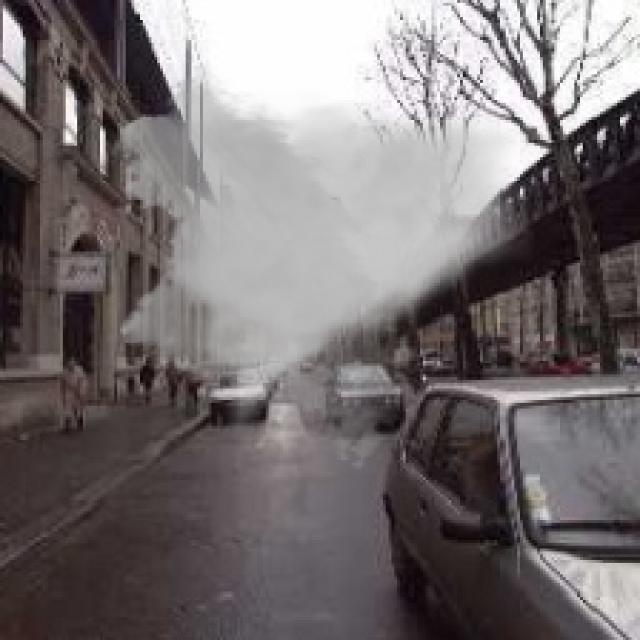smoke: (109, 63, 534, 471)
